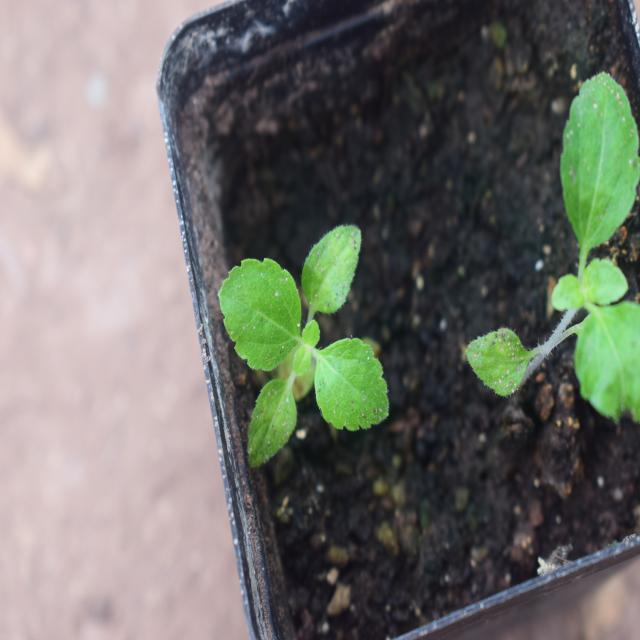billygoat_weed: (506, 50, 640, 424), (214, 220, 392, 462)
